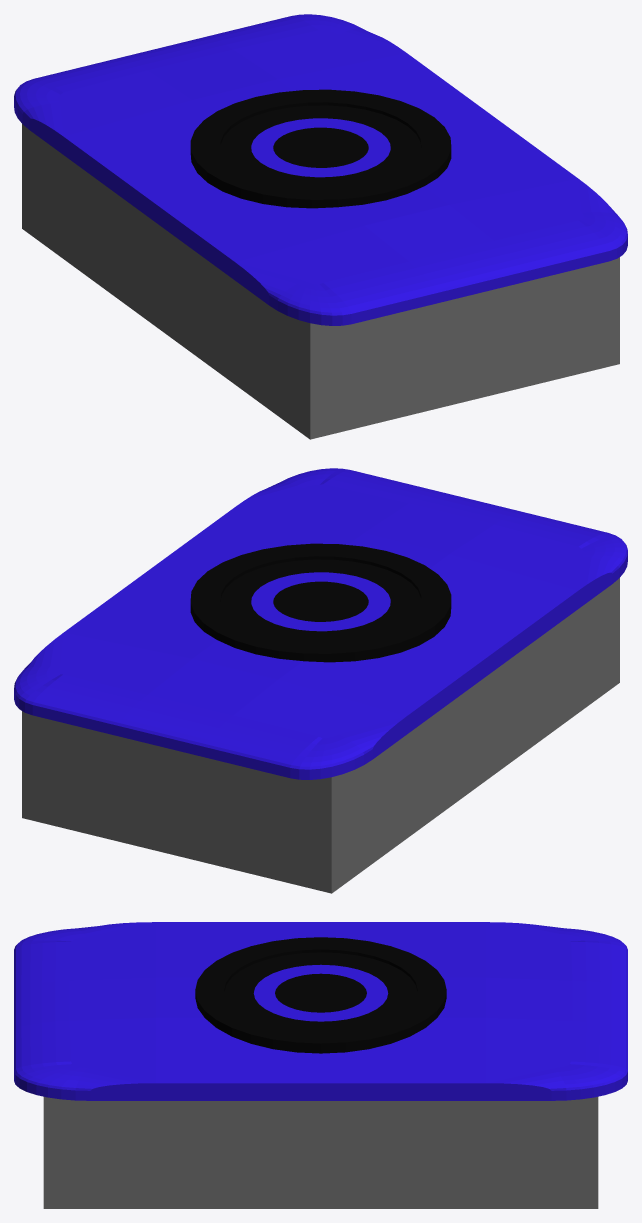
The model's file is EnchufeAzulV2.fbx.
The picture shows the model from 3 angles, top to bottom: view 1: azimuth 30°, elevation 25°; view 2: azimuth 150°, elevation 25°; view 3: azimuth 270°, elevation 25°; orthographic projection. The views are drawn at different scales.
Parts seen in each view (by area): view 1: Marco, Caja, Cilindro, CilindroAzul; view 2: Marco, Caja, Cilindro, CilindroAzul; view 3: Marco, Caja, Cilindro, CilindroAzul.
Part boxes in pixels (bbox=[...]): Marco: bbox=[14, 14, 627, 325]; Caja: bbox=[22, 124, 619, 439]; Cilindro: bbox=[190, 89, 451, 208]; CilindroAzul: bbox=[251, 118, 390, 177]; Marco: bbox=[14, 468, 627, 779]; Caja: bbox=[22, 578, 619, 893]; Cilindro: bbox=[190, 543, 451, 662]; CilindroAzul: bbox=[251, 572, 390, 631]; Marco: bbox=[14, 922, 627, 1100]; Caja: bbox=[43, 1096, 598, 1208]; Cilindro: bbox=[195, 937, 446, 1053]; CilindroAzul: bbox=[253, 964, 388, 1021].
Size of the model in its own units: 1.26 by 0.5302 by 2.02.
